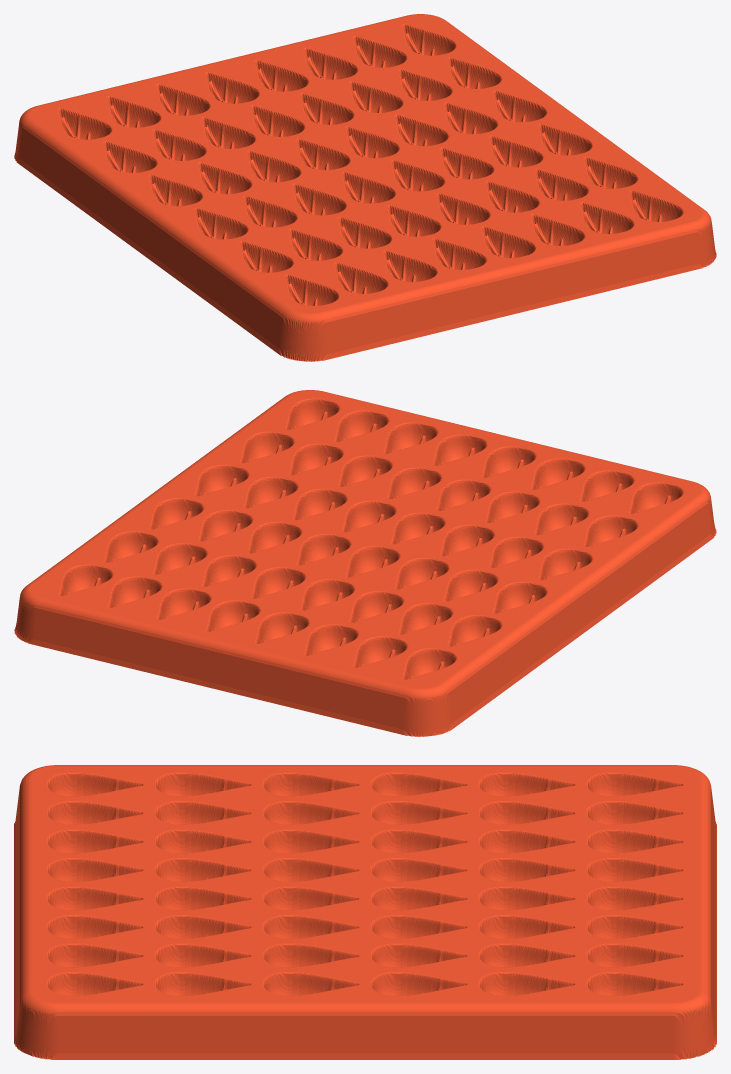
File: mold.glb
The picture shows the model from 3 angles, top to bottom: view 1: azimuth 30°, elevation 25°; view 2: azimuth 150°, elevation 25°; view 3: azimuth 270°, elevation 25°; orthographic projection. The views are drawn at different scales.
Visible parts, largest first — view 1: geometry_0; view 2: geometry_0; view 3: geometry_0.
Part boxes in pixels (left/top/right/bottom): geometry_0: left=14, top=14, right=716, bottom=361; geometry_0: left=14, top=390, right=716, bottom=736; geometry_0: left=14, top=765, right=716, bottom=1059.
Bounding box in the file's own units: 0.1222 × 0.0113 × 0.1443.
